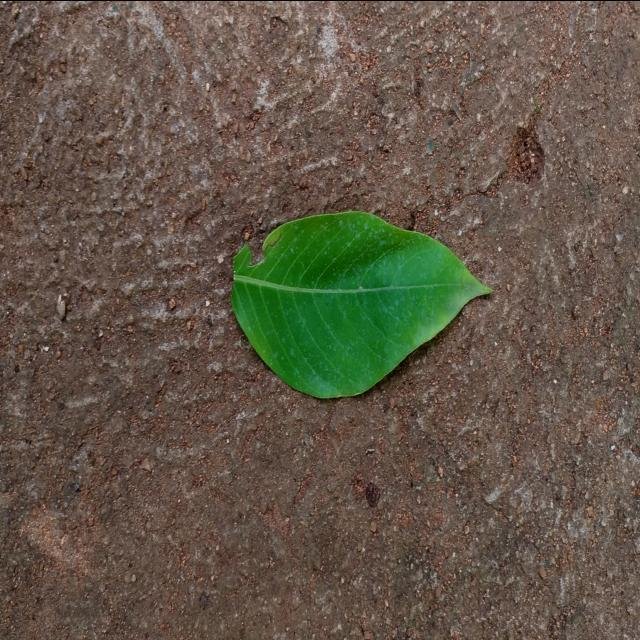leaf: (229, 209, 492, 399)
